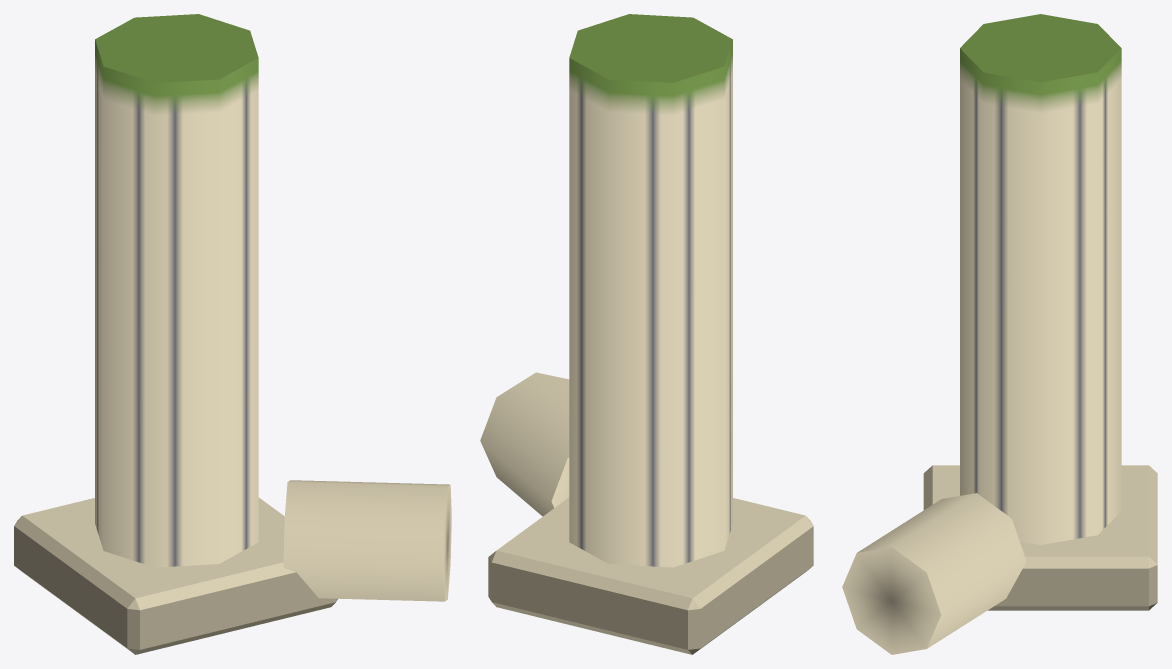
File: prop_columnundefined_48c5.glb
3 renders of one model, left to right at view 1: azimuth 30°, elevation 25°; view 2: azimuth 150°, elevation 25°; view 3: azimuth 270°, elevation 25°, orthographic. The views are drawn at different scales.
Parts seen in each view (by area): view 1: prop_columnundefined_48c5; view 2: prop_columnundefined_48c5; view 3: prop_columnundefined_48c5.
Part boxes in pixels (box(x1,y1,x2,y2)): prop_columnundefined_48c5: box(14, 14, 451, 654); prop_columnundefined_48c5: box(480, 14, 813, 654); prop_columnundefined_48c5: box(842, 14, 1157, 654).
Bounding box in the file's own units: 0.7537 × 1.18 × 0.6554.
1 material, 1 textured.
